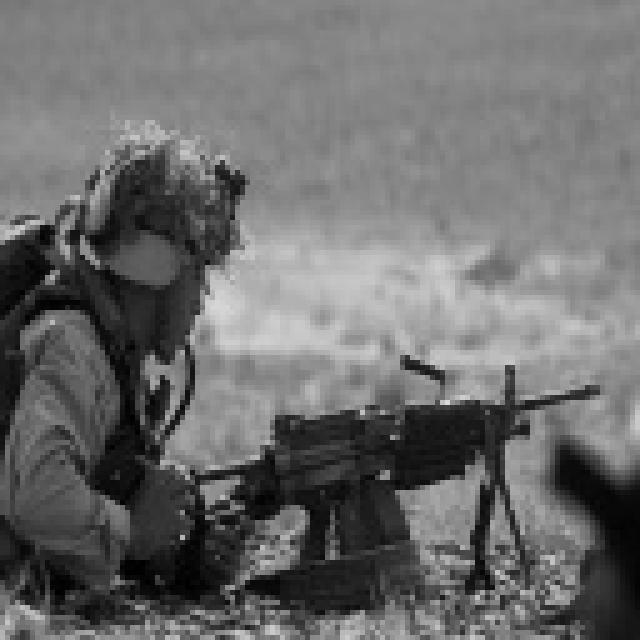Rifle: (101, 290, 640, 638)
